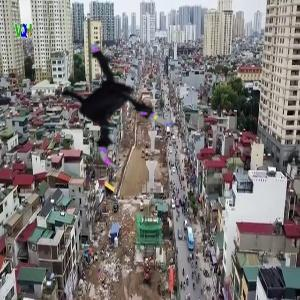drone: (39, 29, 184, 174)
